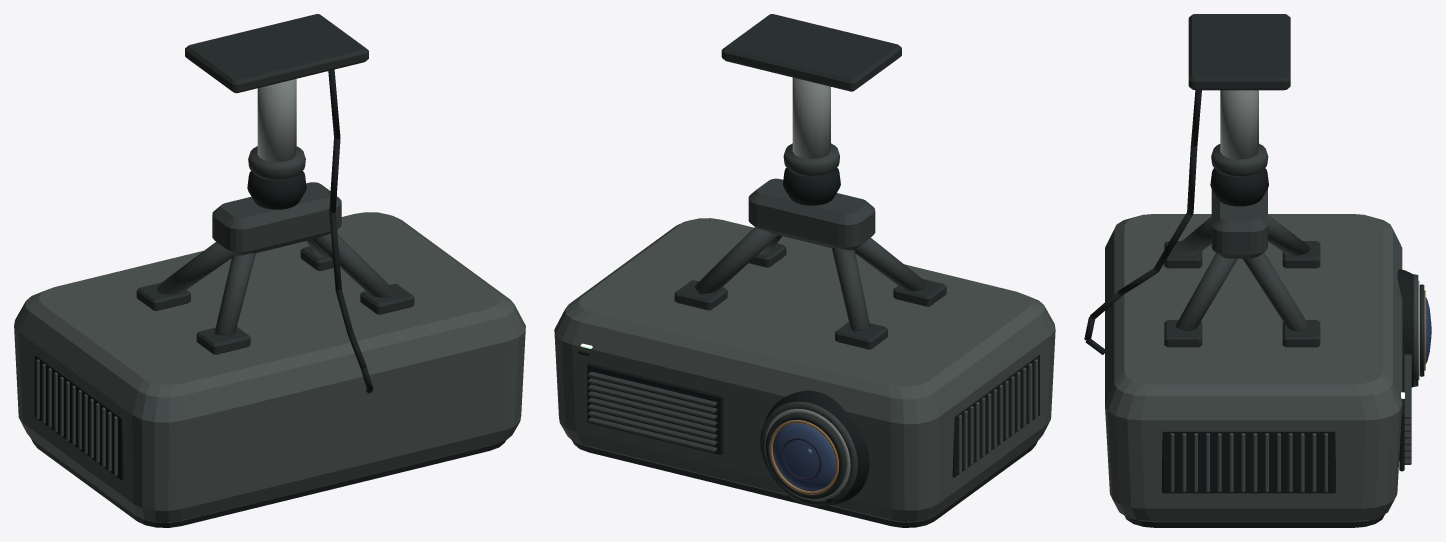
File: cinema-projector.glb
The picture shows the model from 3 angles, left to right: view 1: azimuth 30°, elevation 25°; view 2: azimuth 150°, elevation 25°; view 3: azimuth 270°, elevation 25°; orthographic projection. The views are drawn at different scales.
Visible parts, largest first — view 1: L01_CINEMA_PROJECTOR_01; view 2: L01_CINEMA_PROJECTOR_01; view 3: L01_CINEMA_PROJECTOR_01.
Boxes of the visible parts, x1,y1,x2,y2 form: L01_CINEMA_PROJECTOR_01: (14,14,525,527); L01_CINEMA_PROJECTOR_01: (554,14,1055,527); L01_CINEMA_PROJECTOR_01: (1084,14,1431,527).
Bounding box in the file's own units: 0.581 × 0.5762 × 0.4497.
